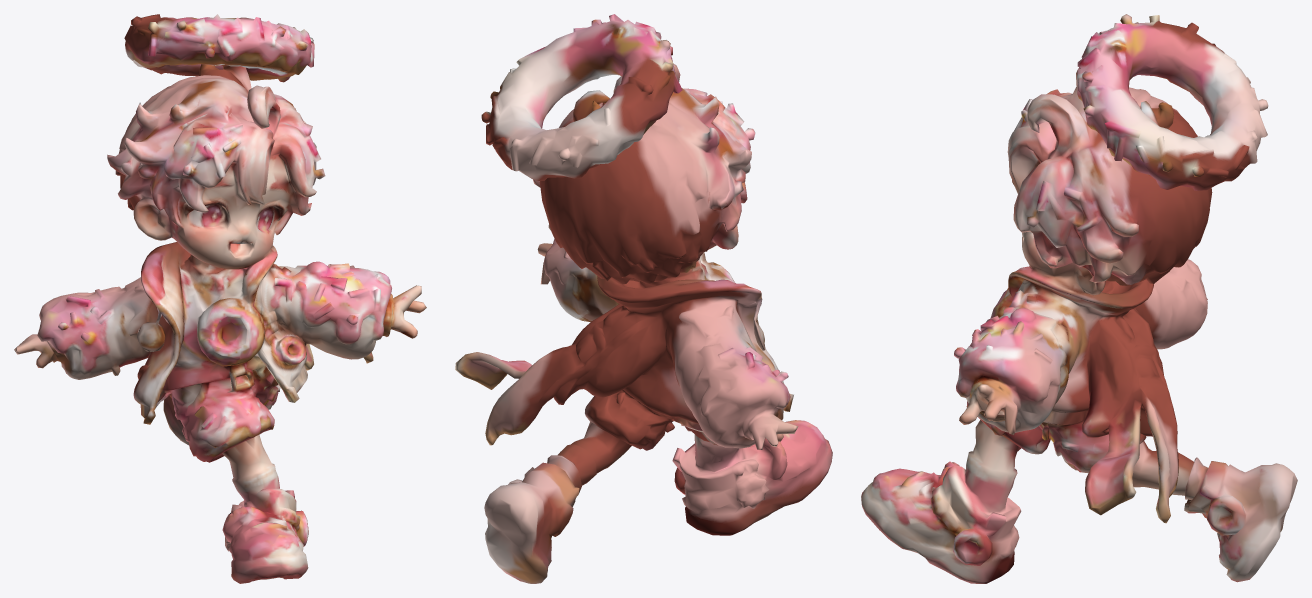
Rendered from donut_roblox.glb.
3 renders of one model, left to right at view 1: azimuth 30°, elevation 25°; view 2: azimuth 150°, elevation 25°; view 3: azimuth 270°, elevation 25°, orthographic. The views are drawn at different scales.
Visible parts, largest first — view 1: DessertDonut_Part002, DessertDonut_Eyes; view 2: DessertDonut_Part002; view 3: DessertDonut_Part002.
Boxes of the visible parts, x1,y1,x2,y2 form: DessertDonut_Part002: (14,14,426,583); DessertDonut_Eyes: (210,171,285,262); DessertDonut_Part002: (455,14,832,583); DessertDonut_Part002: (861,14,1297,583).
Size of the model in its own units: 2.48 by 3.57 by 2.57.
Materials: 1 (1 with a texture image).
